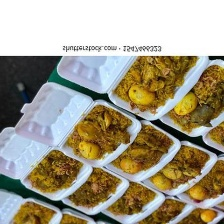foam_box: (11, 79, 144, 169), (52, 55, 212, 123), (0, 125, 95, 203), (157, 55, 224, 158), (101, 118, 183, 185), (139, 136, 218, 200), (59, 166, 133, 217), (99, 179, 167, 224), (172, 157, 224, 212), (0, 189, 63, 223), (170, 202, 224, 224), (50, 209, 111, 223)
